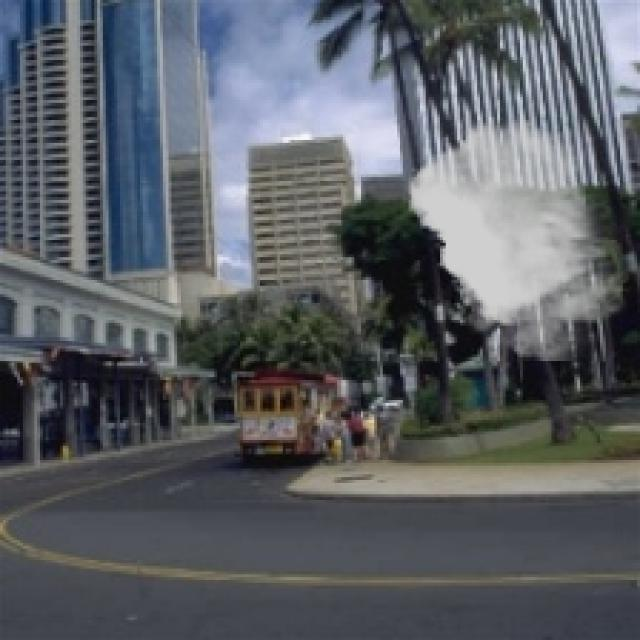Smoke: (408, 117, 623, 360)
